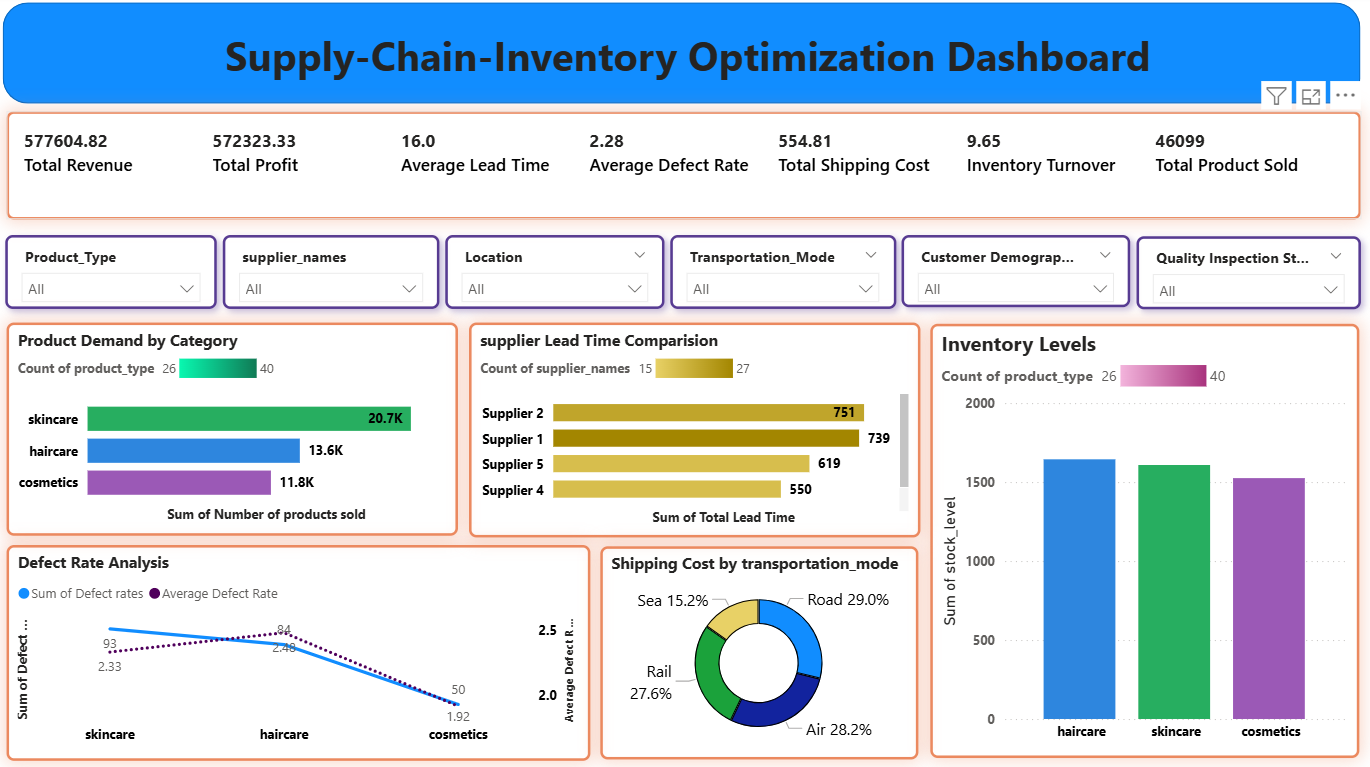

What the dashboard file says about the page in this screenshot:
{"tool":"powerbi","page":{"name":"Page 1","canvas":[1280,720],"ordinal":0},"visuals":[{"type":"shape","box":[8.6,7.1,1262.9,94],"z":5000},{"type":"textbox","box":[48.6,25.7,1193.1,65.7],"z":6000},{"type":"clusteredBarChart","title":"Product Demand by Category","fields":{"Category":["public supply_chain_data.product_type"],"Y":["Sum(public supply_chain_data.Number of products sold)"]},"box":[11.4,304.3,420,198],"z":8001},{"type":"clusteredColumnChart","title":"Inventory Levels","fields":{"Category":["public supply_chain_data.product_type"],"Y":["Sum(public supply_chain_data.stock_level)"]},"box":[871.4,305.7,399,404],"z":8002},{"type":"clusteredBarChart","title":"supplier Lead Time Comparision","fields":{"Category":["public supply_chain_data.supplier_names"],"Y":["Sum(public supply_chain_data.Total Lead Time)"]},"box":[441.4,304.3,420,200],"z":8003},{"type":"donutChart","title":" Shipping Cost by transportation_mode","fields":{"Category":["public supply_chain_data.transportation_mode"],"Y":["public supply_chain_data.Total Shipping Cost"]},"box":[564.3,512.9,295.7,198.6],"z":8004},{"type":"lineChart","title":"Defect Rate Analysis","fields":{"Category":["public supply_chain_data.product_type"],"Y":["Sum(public supply_chain_data.Defect rates)"],"Y2":["public supply_chain_data.Average Defect Rate"]},"box":[11.2,512.1,543.2,201],"z":8005},{"type":"slicer","fields":{"Values":["public supply_chain_data.product_type"]},"box":[10,222.9,197.1,68.6],"z":8006},{"type":"slicer","fields":{"Values":["public supply_chain_data.supplier_names"]},"box":[212.9,222.9,201.4,68.6],"z":8007},{"type":"slicer","fields":{"Values":["public supply_chain_data.transportation_mode"]},"box":[628.6,222.9,210,68.6],"z":8008},{"type":"slicer","fields":{"Values":["public supply_chain_data.Customer demographics"]},"box":[844.3,222.9,212.9,67.1],"z":8009},{"type":"slicer","fields":{"Values":["public supply_chain_data.Location"]},"box":[420,222.9,204.3,68.6],"z":8010},{"type":"multiRowCard","fields":{"Values":["public supply_chain_data.Total Revenue","public supply_chain_data.Total Profit","public supply_chain_data.Average Lead Time","public supply_chain_data.Average Defect Rate","public supply_chain_data.Total Shipping Cost","public supply_chain_data.Inventory Turnover","public supply_chain_data.Total Product Sold"]},"box":[11.2,108.1,1260.4,100.7],"z":8011},{"type":"slicer","fields":{"Values":["public supply_chain_data.Inspection results"]},"box":[1062.7,225,208.8,68],"z":8013}]}

Visuals, with their boxes in screenshot pixels (x1, y1, x2, y2), scaled from the page's 1280x720 canvas onto the 1370x767 screenshot:
shape: box(9, 8, 1361, 108)
textbox: box(52, 27, 1329, 97)
"Product Demand by Category" clusteredBarChart: box(12, 324, 462, 535)
"Inventory Levels" clusteredColumnChart: box(933, 326, 1360, 756)
"supplier Lead Time Comparision" clusteredBarChart: box(472, 324, 922, 537)
" Shipping Cost by transportation_mode" donutChart: box(604, 546, 920, 758)
"Defect Rate Analysis" lineChart: box(12, 546, 593, 760)
slicer - public supply_chain_data.product_type: box(11, 237, 222, 311)
slicer - public supply_chain_data.supplier_names: box(228, 237, 443, 311)
slicer - public supply_chain_data.transportation_mode: box(673, 237, 898, 311)
slicer - public supply_chain_data.Customer demographics: box(904, 237, 1132, 309)
slicer - public supply_chain_data.Location: box(450, 237, 668, 311)
multiRowCard - public supply_chain_data.Total Revenue x public supply_chain_data.Total Profit: box(12, 115, 1361, 222)
slicer - public supply_chain_data.Inspection results: box(1137, 240, 1361, 312)
